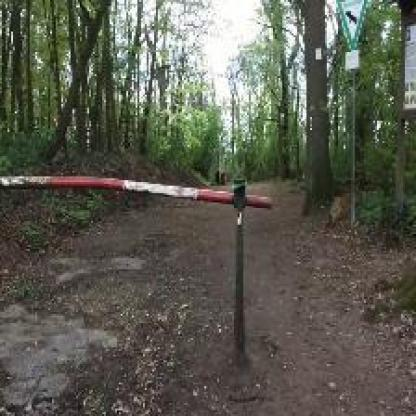other: (1, 158, 281, 228)
